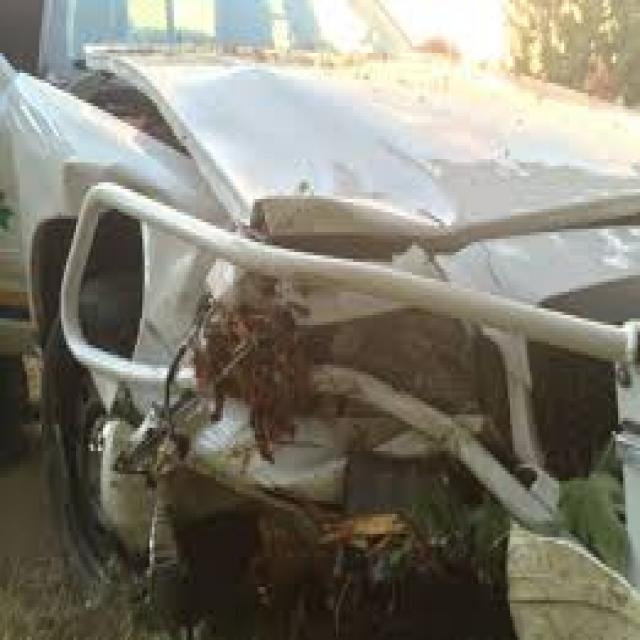moderate: (0, 40, 569, 640)
